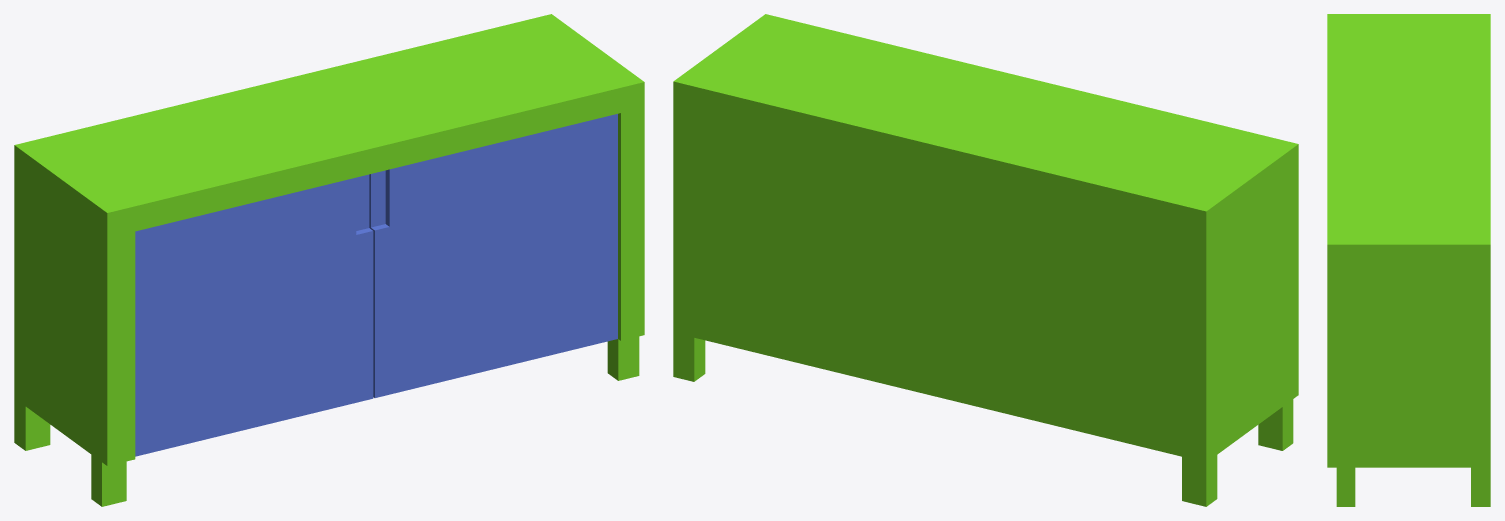
The model's file is chest.fbx.
The picture shows the model from 3 angles, left to right: view 1: azimuth 30°, elevation 25°; view 2: azimuth 150°, elevation 25°; view 3: azimuth 270°, elevation 25°; orthographic projection. The views are drawn at different scales.
Parts seen in each view (by area): view 1: chest; view 2: chest; view 3: chest.
Part boxes in pixels (box(x1,y1,x2,y2)): chest: box(14, 14, 644, 506); chest: box(673, 14, 1298, 506); chest: box(1327, 14, 1490, 506).
Size of the model in its own units: 172 by 91.27 by 51.62.
